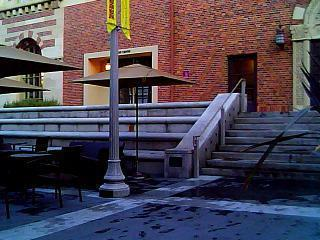Escaleras: (192, 98, 319, 187)
